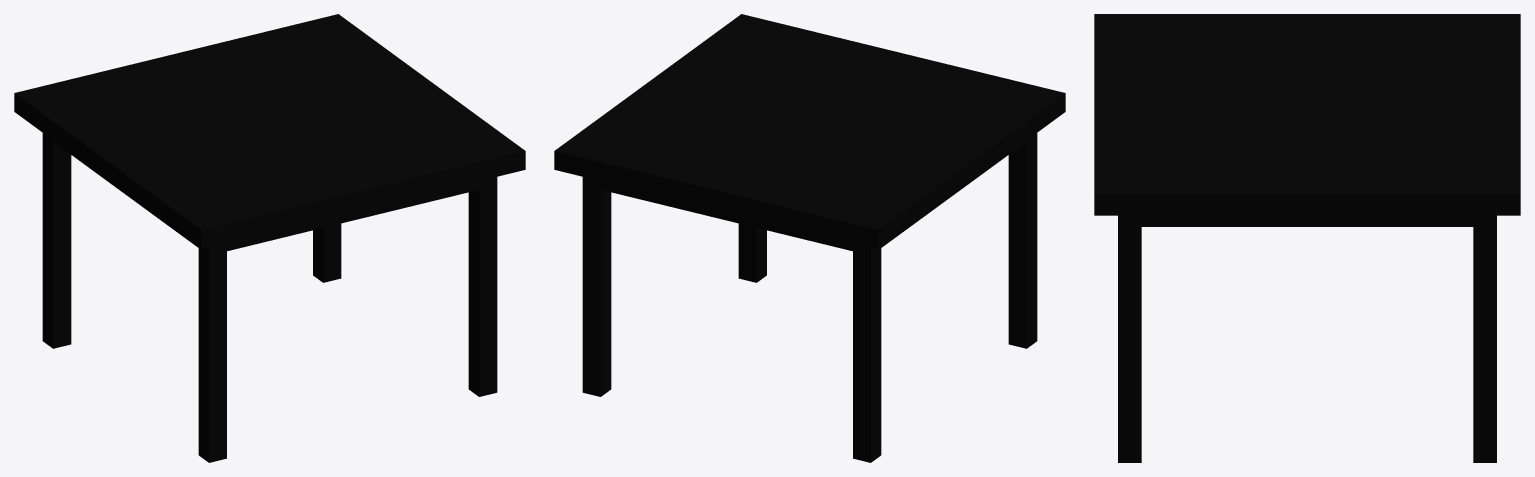
File: Restable_2.obj
The picture shows the model from 3 angles, left to right: view 1: azimuth 30°, elevation 25°; view 2: azimuth 150°, elevation 25°; view 3: azimuth 270°, elevation 25°; orthographic projection. The views are drawn at different scales.
Size of the model in its own units: 1.8 by 1.3 by 1.8.
